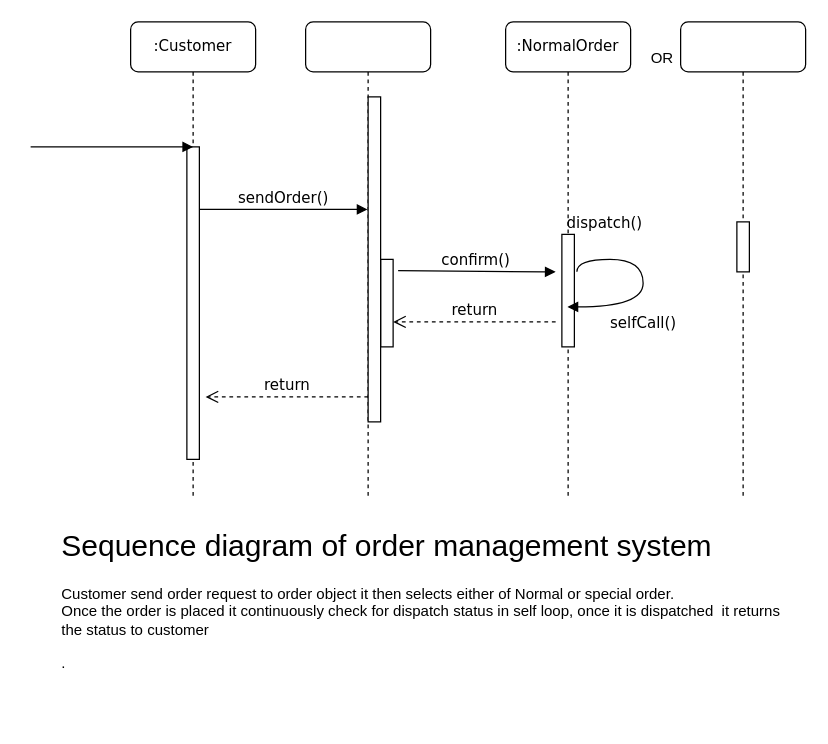
Image size: 828x744. Some labels were removed from this diagram. The centre of each missing label's shape, as x and y in pixels:
":Order" belongs at point (367, 259).
":SpecialOrder" belongs at point (742, 259).
